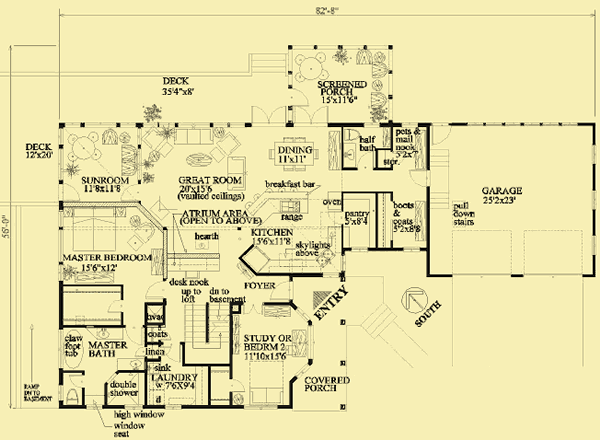bed: (69, 206, 120, 253)
dining table: (265, 134, 322, 176)
door: (249, 103, 290, 128), (293, 103, 332, 128), (58, 180, 83, 207), (286, 84, 314, 108), (267, 279, 297, 301), (140, 278, 168, 301), (429, 119, 451, 146), (409, 166, 432, 191), (122, 323, 146, 346), (116, 181, 142, 202), (240, 299, 267, 319), (357, 151, 375, 174), (65, 372, 87, 390), (223, 375, 245, 393), (105, 298, 127, 315)
large sink: (341, 126, 361, 144), (64, 388, 79, 406)
large sofa: (226, 155, 249, 195), (171, 127, 216, 146), (248, 386, 287, 406)
round table: (67, 131, 106, 165), (292, 51, 334, 82)
small sink: (118, 357, 145, 371), (91, 327, 114, 341), (341, 144, 354, 164)
small sofa: (141, 126, 169, 155), (216, 131, 242, 157)
stairs: (179, 304, 231, 367), (358, 300, 399, 339), (427, 146, 451, 212), (247, 49, 288, 76)
windows: (462, 118, 581, 131), (63, 118, 140, 132), (57, 205, 66, 283), (57, 327, 66, 371), (348, 245, 374, 255), (401, 244, 422, 256), (589, 185, 597, 214), (590, 142, 599, 167), (590, 233, 597, 258)
